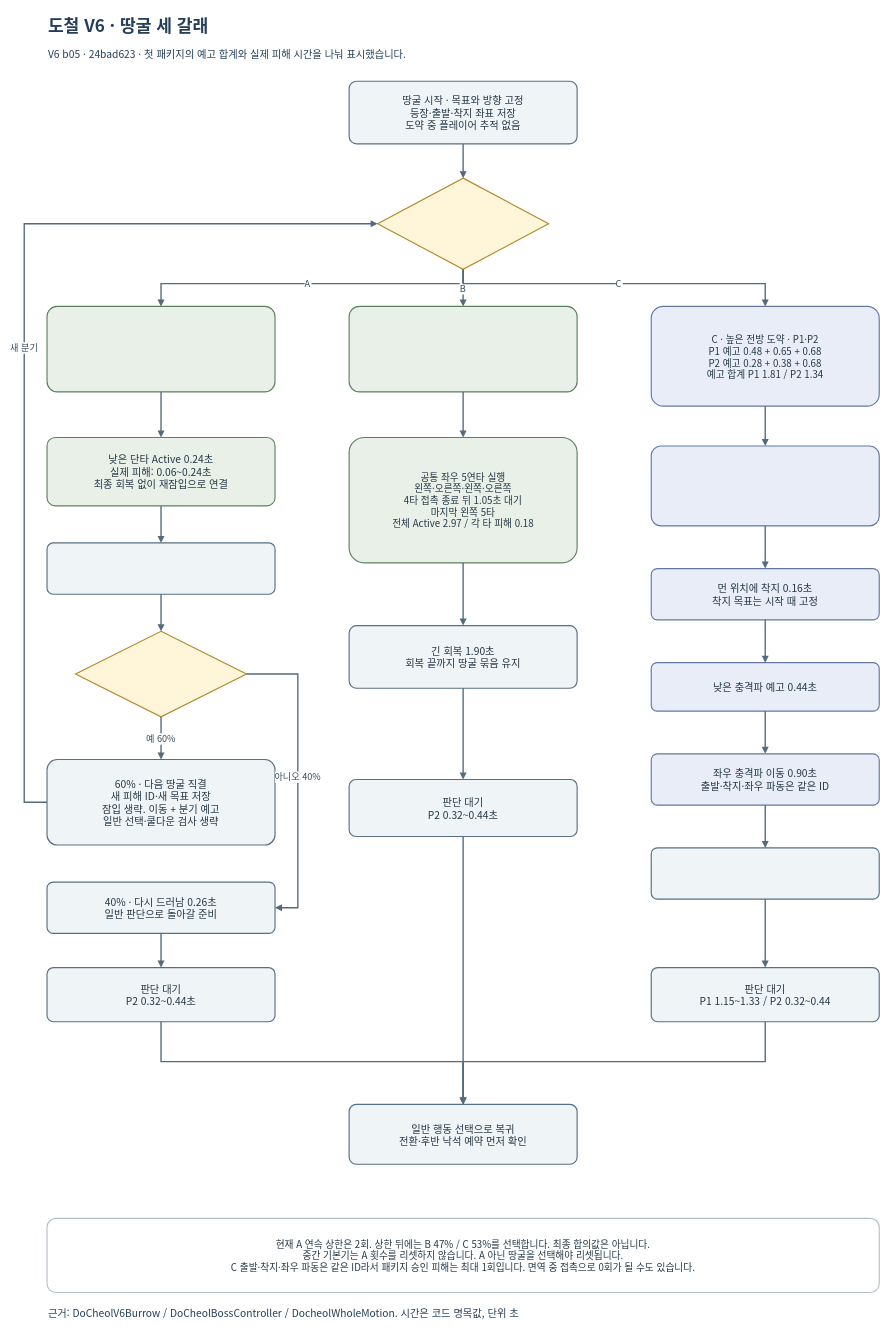
Some shapes in this 889 by 1330 pixel diagram are drawn without their labels. The shapes that lost their labels are listed below. From the top down, each one's centre as x and y in pixels, then its label:
point 463,223: 분기 선택 P1: C 100% P2: A 40 / B 28 / C 32%
point 160,349: A · 낮은 한쪽 찍기 · P2 잠입 0.28 + 이동 0.38 땅속 분기 예고 0.62 첫 예고 합계 1.28초
point 462,349: B · 낮은 5연타 · P2 잠입 0.28 + 이동 0.38 땅속 5연타 예고 1.80 첫 예고 합계 2.46초
point 765,485: 출발 → 포물선 비행 비행 P1 0.98 / P2 0.82초 출발 첫 0.12초만 출발 피해 이후 공중 비행은 피해 없음
point 160,568: 다시 잠입 0.26초 회복을 취소한 동작이 아님
point 161,673: 다음 땅굴로 직결하는가?
point 765,873: 확실한 회복 1.15초 파동까지 피한 뒤 반격
